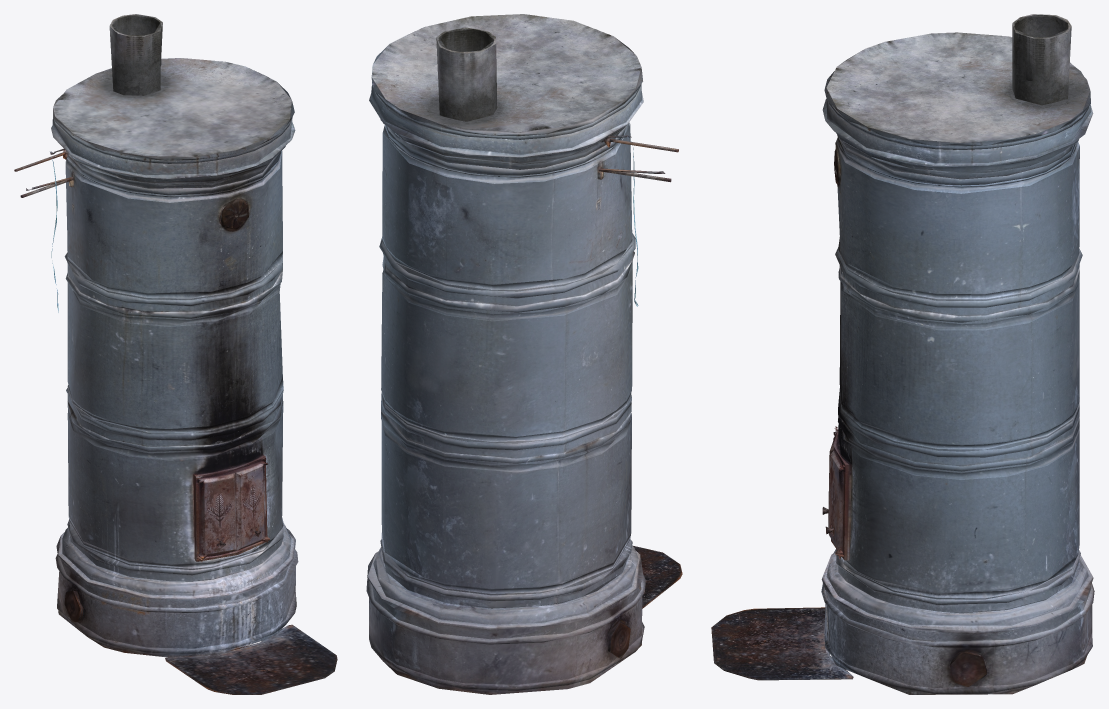
Rendered from scandinavian_masonry_heater_lod2.glb.
The picture shows the model from 3 angles, left to right: view 1: azimuth 30°, elevation 25°; view 2: azimuth 150°, elevation 25°; view 3: azimuth 270°, elevation 25°; orthographic projection. The views are drawn at different scales.
Parts seen in each view (by area): view 1: scandinavian_masonry_heater; view 2: scandinavian_masonry_heater; view 3: scandinavian_masonry_heater.
Boxes of the visible parts, x1,y1,x2,y2 form: scandinavian_masonry_heater: (14, 14, 337, 694); scandinavian_masonry_heater: (366, 14, 682, 694); scandinavian_masonry_heater: (711, 14, 1094, 694).
Size of the model in its own units: 1.16 by 2.36 by 1.33.
1 material, 1 textured.
